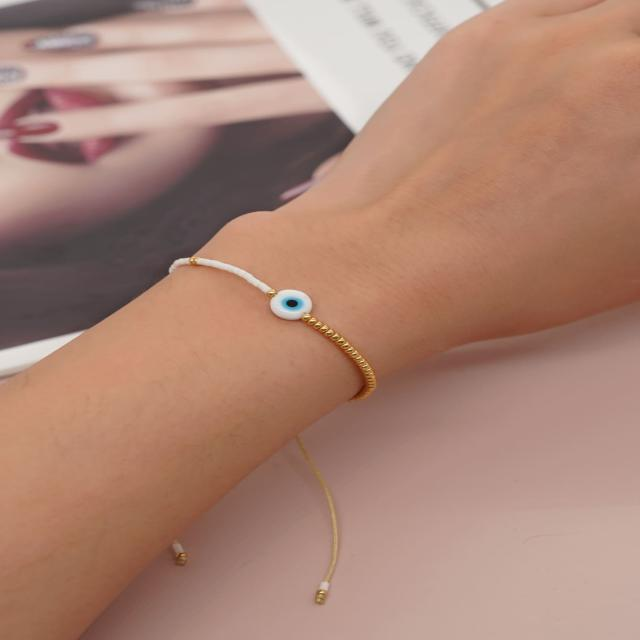bracelet: (83, 195, 431, 613)
